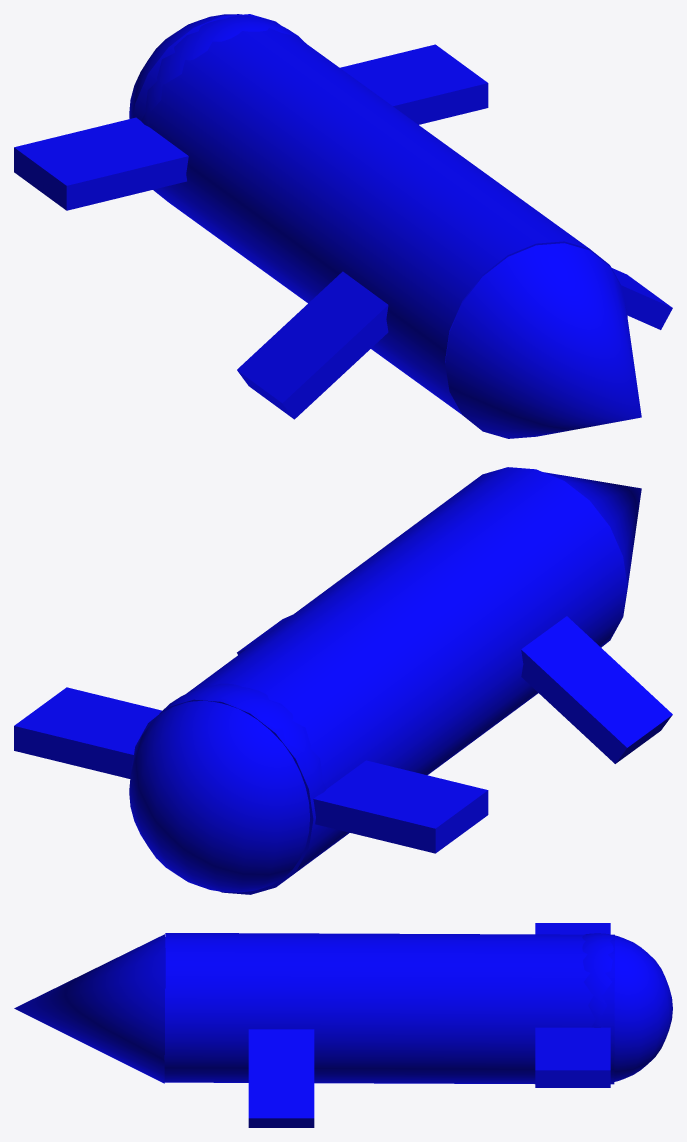
Rendered from spaceShip.fbx.
3 renders of one model, top to bottom at view 1: azimuth 30°, elevation 25°; view 2: azimuth 150°, elevation 25°; view 3: azimuth 270°, elevation 25°, orthographic. The views are drawn at different scales.
Visible parts, largest first — view 1: pCube3; view 2: pCube3; view 3: pCube3.
Part boxes in pixels (x1=…): pCube3: x1=14, y1=14, x2=672, y2=438; pCube3: x1=14, y1=467, x2=672, y2=894; pCube3: x1=14, y1=923, x2=672, y2=1127.
Bounding box in the file's own units: 4.62 × 2.03 × 8.73.
